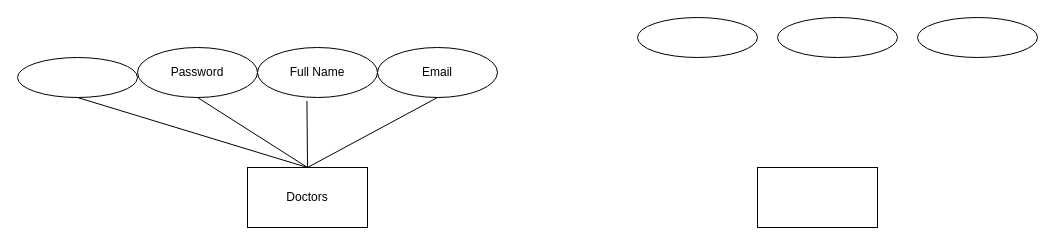
Image size: 1055x245. Some labels were removed from this diagram. The shapes that lost their labels are listed below. From the top down, each one's centre as x and y in pixels, then its label:
the point at 77,77: ID
the point at 817,197: Models
